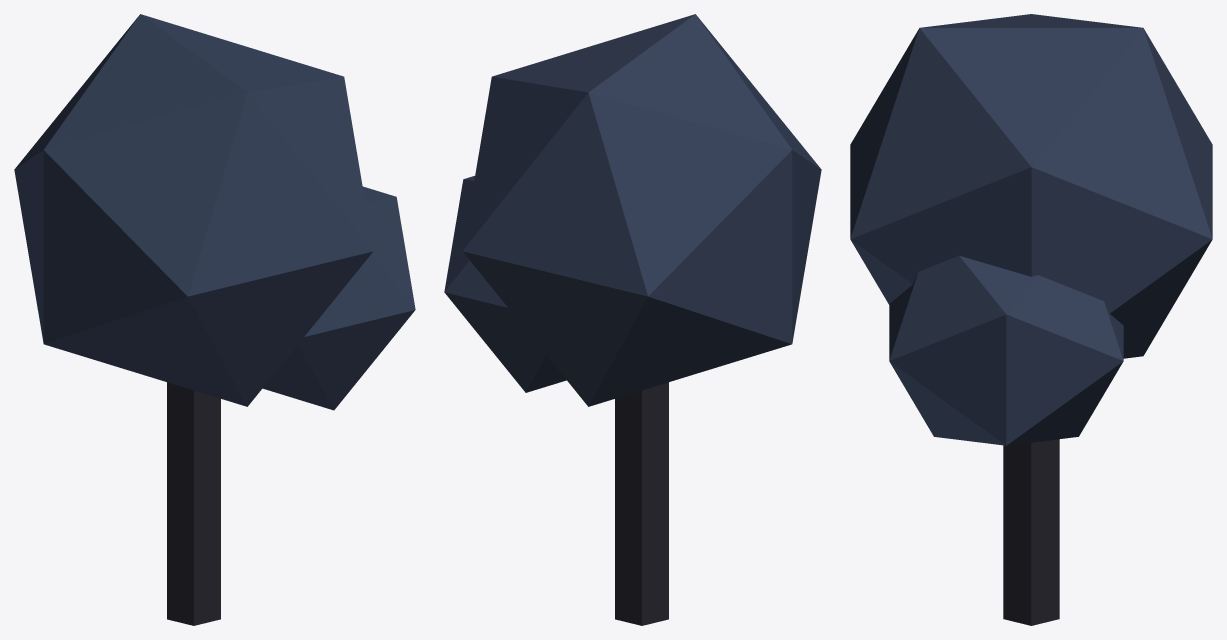
Rendered from tree.glb.
3 views of the same model, side by side, from view 1: azimuth 30°, elevation 25°; view 2: azimuth 150°, elevation 25°; view 3: azimuth 270°, elevation 25° (orthographic). The views are drawn at different scales.
Visible parts, largest first — view 1: Tree; view 2: Tree; view 3: Tree.
Boxes of the visible parts, box(x1,y1,x2,y2) form: Tree: box(14, 14, 415, 625); Tree: box(444, 14, 821, 625); Tree: box(850, 14, 1212, 625).
Size of the model in its own units: 1.64 by 2.57 by 1.45.
